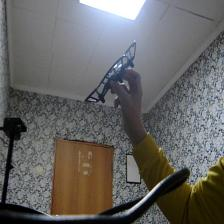drone: (84, 38, 141, 110)
